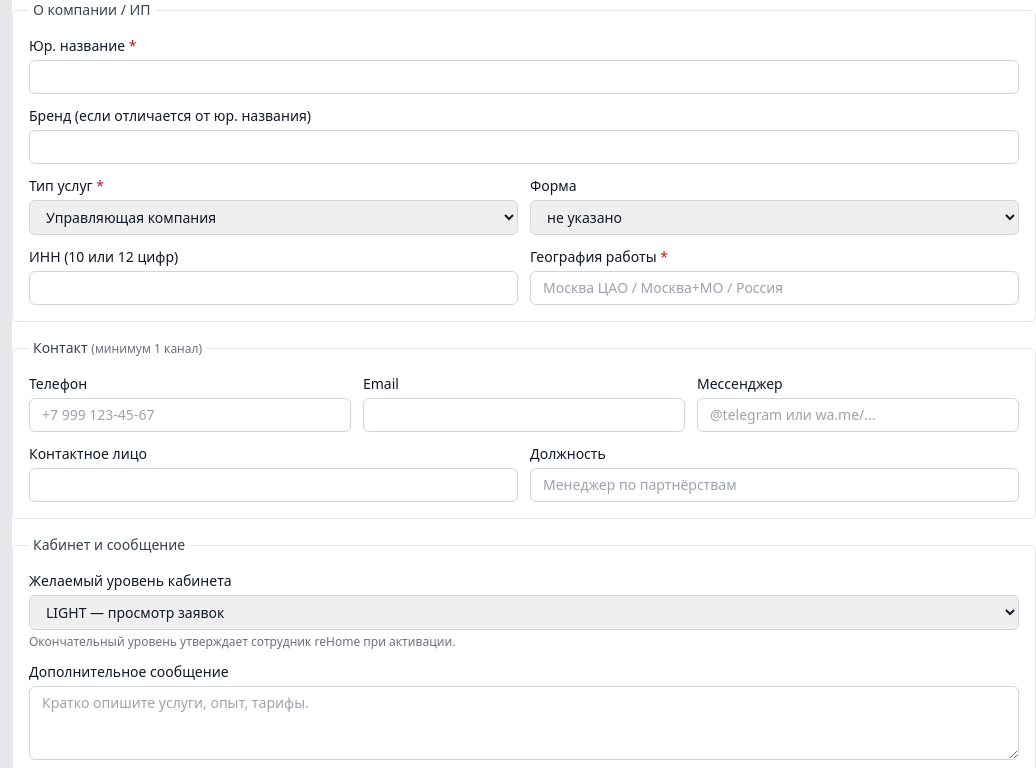
Test: OnboardingForm › 422 → показывает detail из backend
This screenshot has width=1036, height=768.
Type "ООО Тест" into the field labelled "Юр. название *" at (524, 77), box [29,60,1019,94]
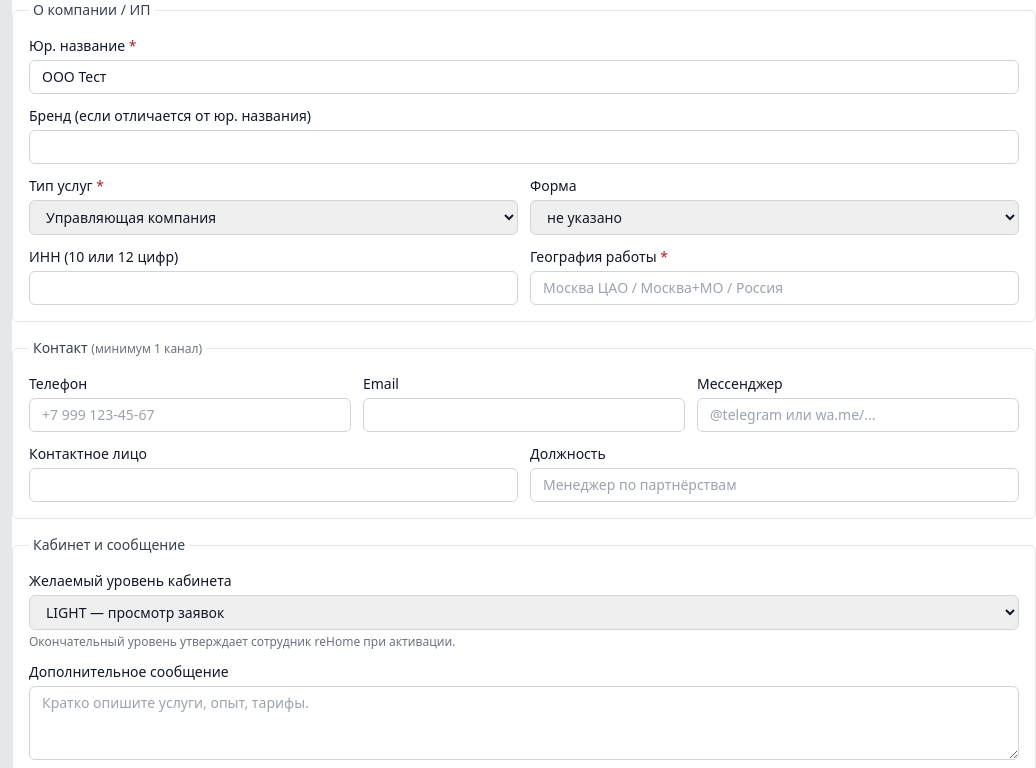
Type "Москва" into the field labelled "География работы *" at (774, 288), box [530,271,1019,305]
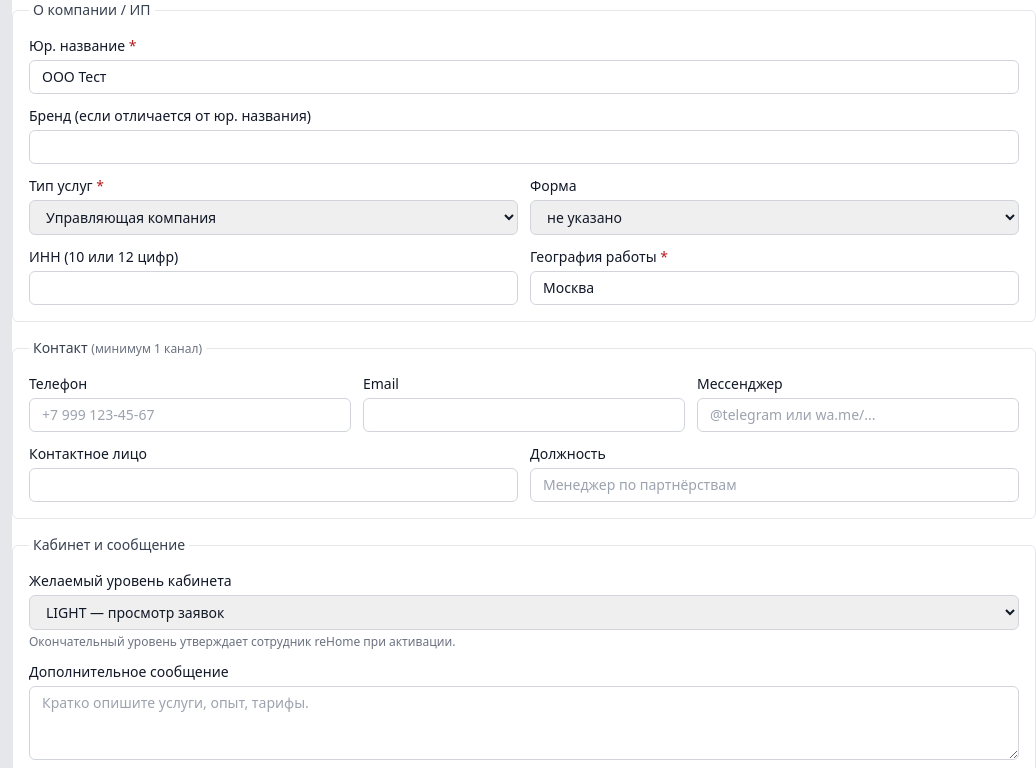
Type "x@example.com" into the field labelled "Email" at (524, 415), box [363,398,685,432]
(page scrolled)
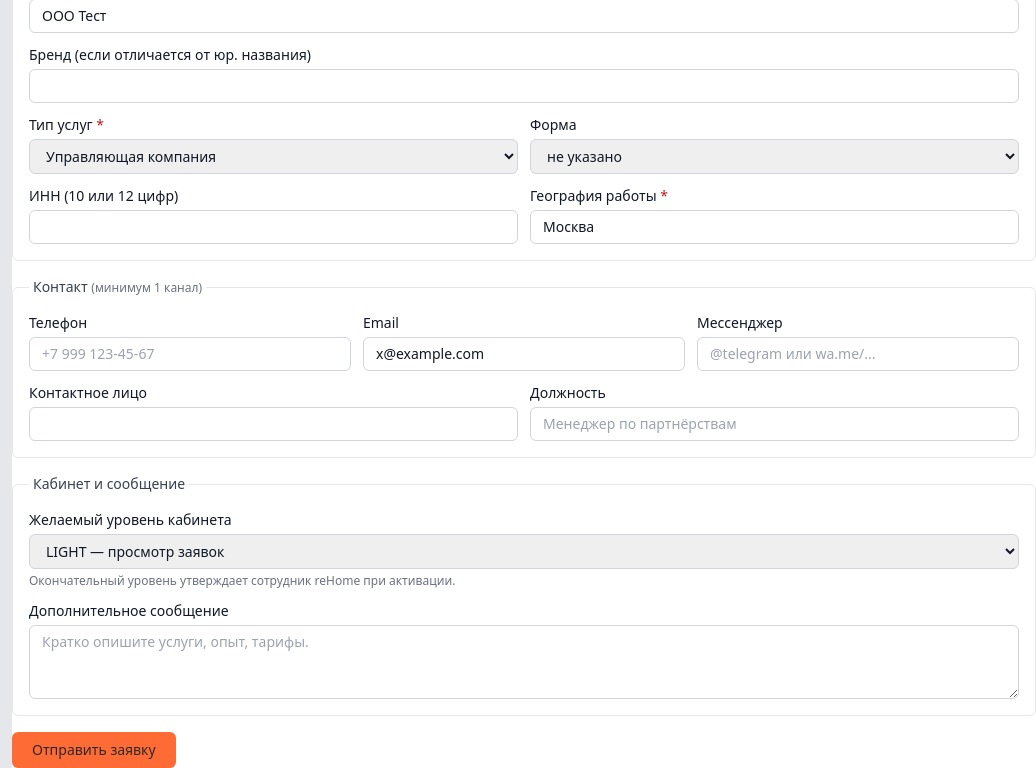
Submit the form from the button "Отправить заявку", box [12,732,176,767]
(page scrolled)
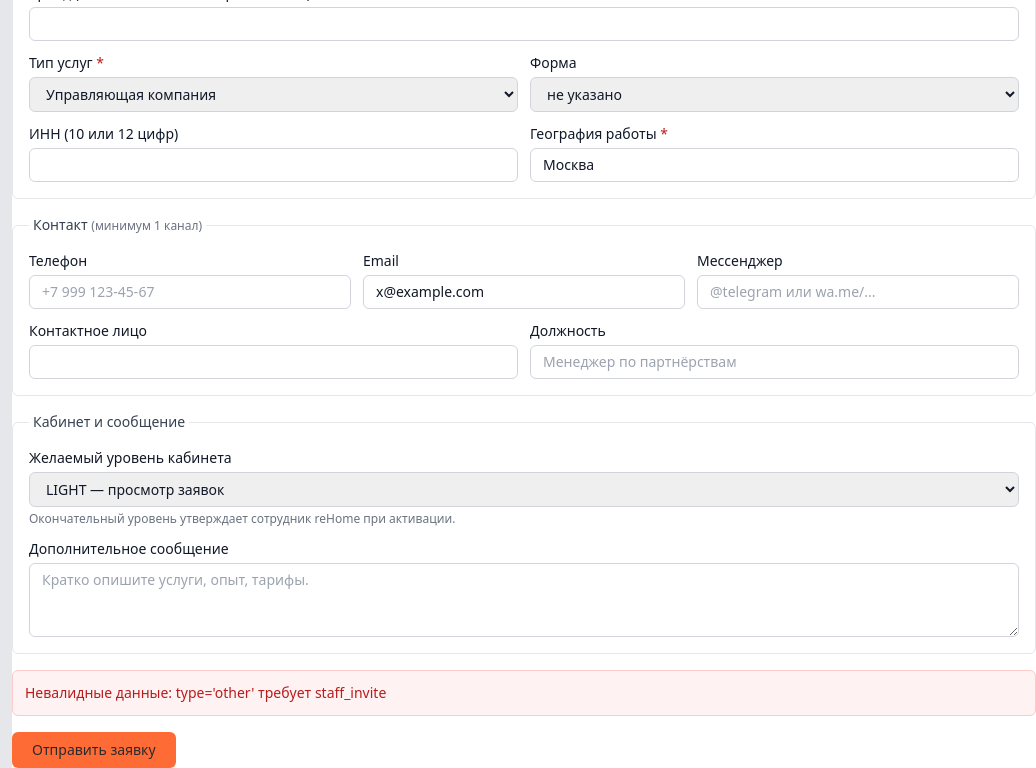
Result: the message shows "требует staff_invite" at [25,683,386,702]
